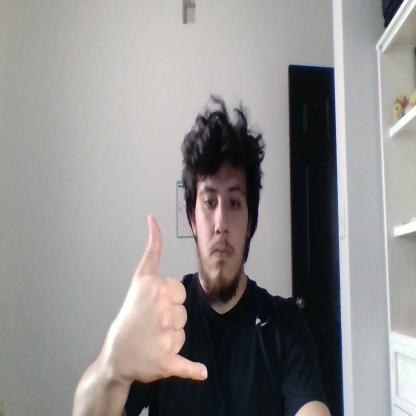Y: (124, 213, 209, 381)
